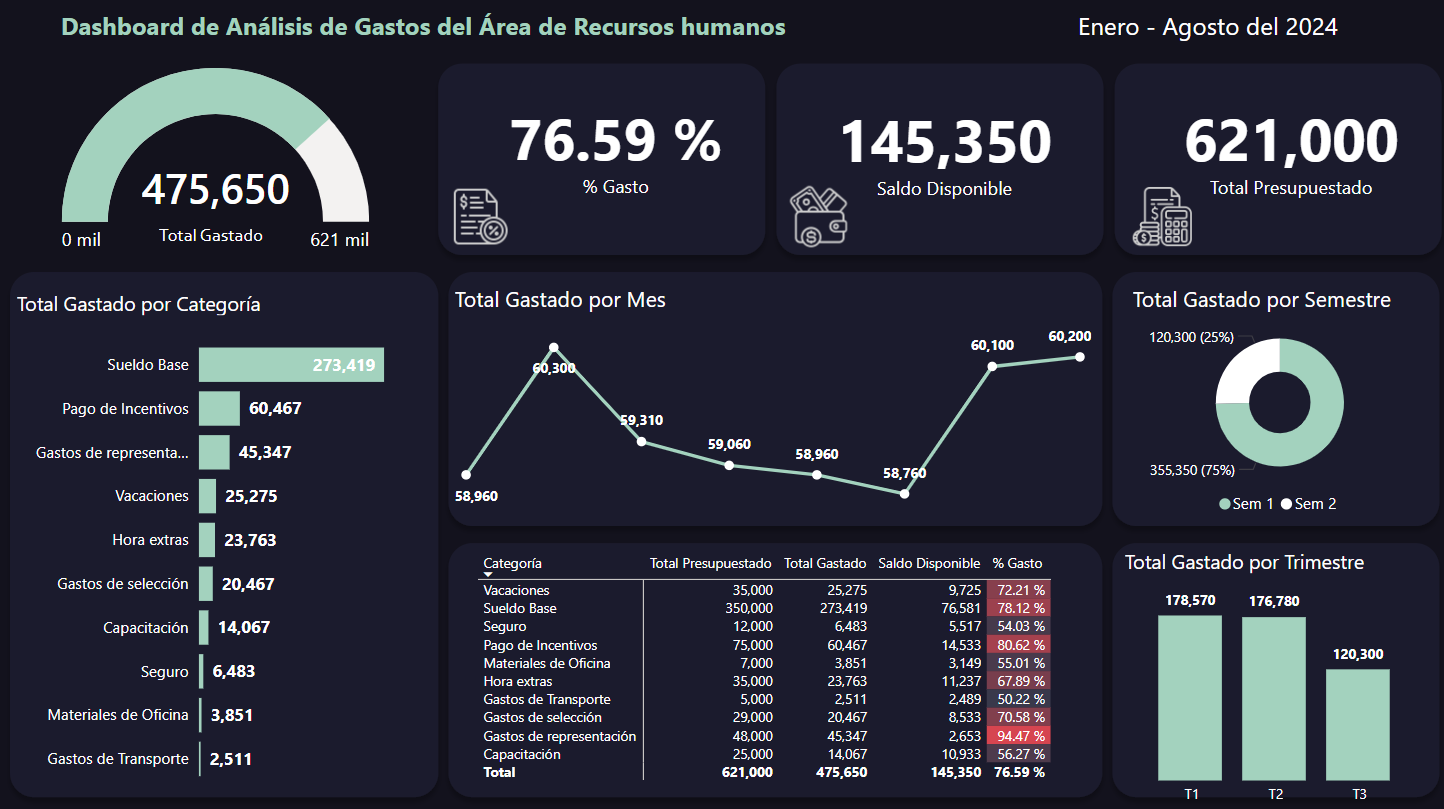

The dashboard page shown, as its layout file describes it:
{"tool":"powerbi","page":{"name":"Página 1","canvas":[1280,720],"ordinal":0},"visuals":[{"type":"gauge","fields":{"Y":["Gastos1 (2).Total Gastado"],"MaxValue":["Presupuesto2.Total Presupuestado"]},"box":[54.4,7,280.1,280.1],"z":0},{"type":"textbox","box":[140,195.5,110,43.6],"z":1000},{"type":"card","fields":{"Values":["Gastos1 (2).% Gasto"]},"box":[433.6,76.4,225.5,115.5],"z":2000},{"type":"image","box":[393.6,161.8,67.3,66.4],"z":3000},{"type":"card","fields":{"Values":["Gastos1 (2).Saldo Disponible"]},"box":[711.8,80.9,245.5,110.9],"z":4000},{"type":"image","box":[690.9,161.8,66.4,66.4],"z":5000},{"type":"card","fields":{"Values":["Presupuesto2.Total Presupuestado"]},"box":[1025.5,70,227.3,129.1],"z":6000},{"type":"image","box":[994.5,161.8,61.8,66.4],"z":7000},{"type":"clusteredBarChart","fields":{"Category":["Presupuesto2.Categoría"],"Y":["Gastos1 (2).Total Gastado"]},"box":[14.9,258.1,384.6,448.7],"z":8000},{"type":"pivotTable","fields":{"Rows":["Presupuesto2.Categoría"],"Values":["Presupuesto2.Total Presupuestado","Gastos1 (2).Total Gastado","Gastos1 (2).Saldo Disponible","Gastos1 (2).% Gasto"]},"box":[419.7,484.7,605.9,235.3],"z":10000},{"type":"lineChart","fields":{"Y":["Gastos1 (2).Total Gastado"],"Category":["Calendario.Mes Num"]},"box":[399.5,253.8,566.3,212.5],"z":11000},{"type":"donutChart","fields":{"Category":["Calendario.Semestre"],"Y":["Gastos1 (2).Total Gastado"]},"box":[994.8,253.8,268.7,212.5],"z":12000},{"type":"clusteredColumnChart","fields":{"Category":["Calendario.Trimestre"],"Y":["Gastos1 (2).Total Gastado"]},"box":[987.8,484.7,275.7,235.3],"z":13000},{"type":"textbox","box":[0,7,759.5,44.8],"z":14000},{"type":"textbox","box":[851.7,7,428.5,44.8],"z":15000}]}

Visuals, with their boxes in screenshot pixels (x1, y1, x2, y2), scaled from the page's 1280x720 canvas onto the 1444x809 screenshot:
gauge - Gastos1 (2).Total Gastado x Presupuesto2.Total Presupuestado: left=61, top=8, right=377, bottom=323
textbox: left=158, top=220, right=282, bottom=269
card - Gastos1 (2).% Gasto: left=489, top=86, right=744, bottom=216
image: left=444, top=182, right=520, bottom=256
card - Gastos1 (2).Saldo Disponible: left=803, top=91, right=1080, bottom=216
image: left=779, top=182, right=854, bottom=256
card - Presupuesto2.Total Presupuestado: left=1157, top=79, right=1413, bottom=224
image: left=1122, top=182, right=1192, bottom=256
clusteredBarChart - Presupuesto2.Categoría x Gastos1 (2).Total Gastado: left=17, top=290, right=451, bottom=794
pivotTable - Presupuesto2.Categoría x Presupuesto2.Total Presupuestado: left=473, top=545, right=1157, bottom=808
lineChart - Gastos1 (2).Total Gastado x Calendario.Mes Num: left=451, top=285, right=1090, bottom=524
donutChart - Calendario.Semestre x Gastos1 (2).Total Gastado: left=1122, top=285, right=1425, bottom=524
clusteredColumnChart - Calendario.Trimestre x Gastos1 (2).Total Gastado: left=1114, top=545, right=1425, bottom=808
textbox: left=0, top=8, right=857, bottom=58
textbox: left=961, top=8, right=1443, bottom=58
